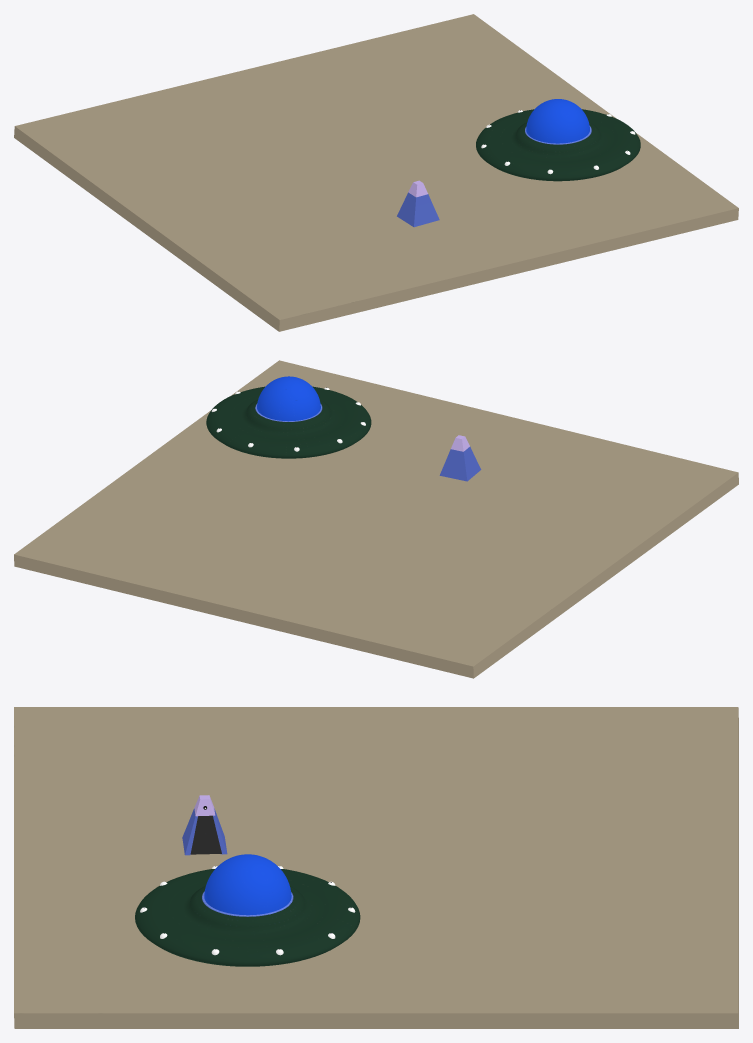
The model's file is mainIter1.gltf.
3 views of the same model, one above another, from view 1: azimuth 30°, elevation 25°; view 2: azimuth 150°, elevation 25°; view 3: azimuth 270°, elevation 25° (orthographic). The views are drawn at different scales.
Visible parts, largest first — view 1: Plane; view 2: Plane; view 3: Plane.
Part boxes in pixels (box(x1,y1,x2,y2)): Plane: box(14, 14, 738, 331); Plane: box(14, 360, 738, 678); Plane: box(14, 707, 738, 1028).
Size of the model in its own units: 23.36 by 3.82 by 23.35.
1 material, 1 textured.
